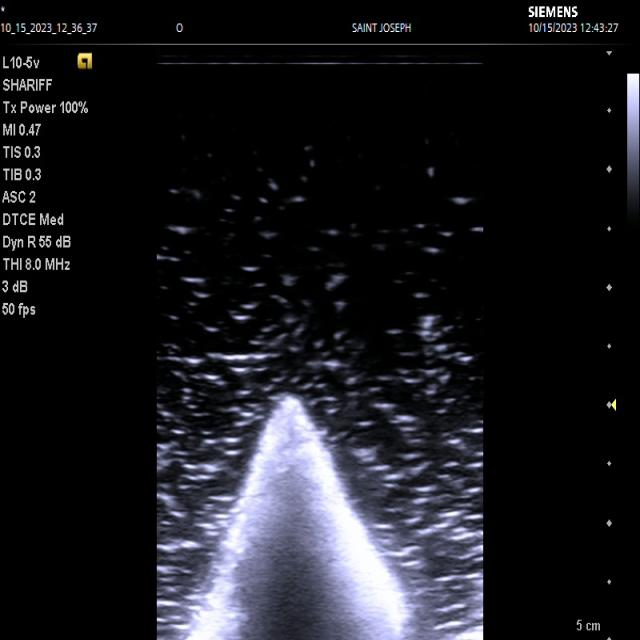tissue: (186, 397, 406, 640)
